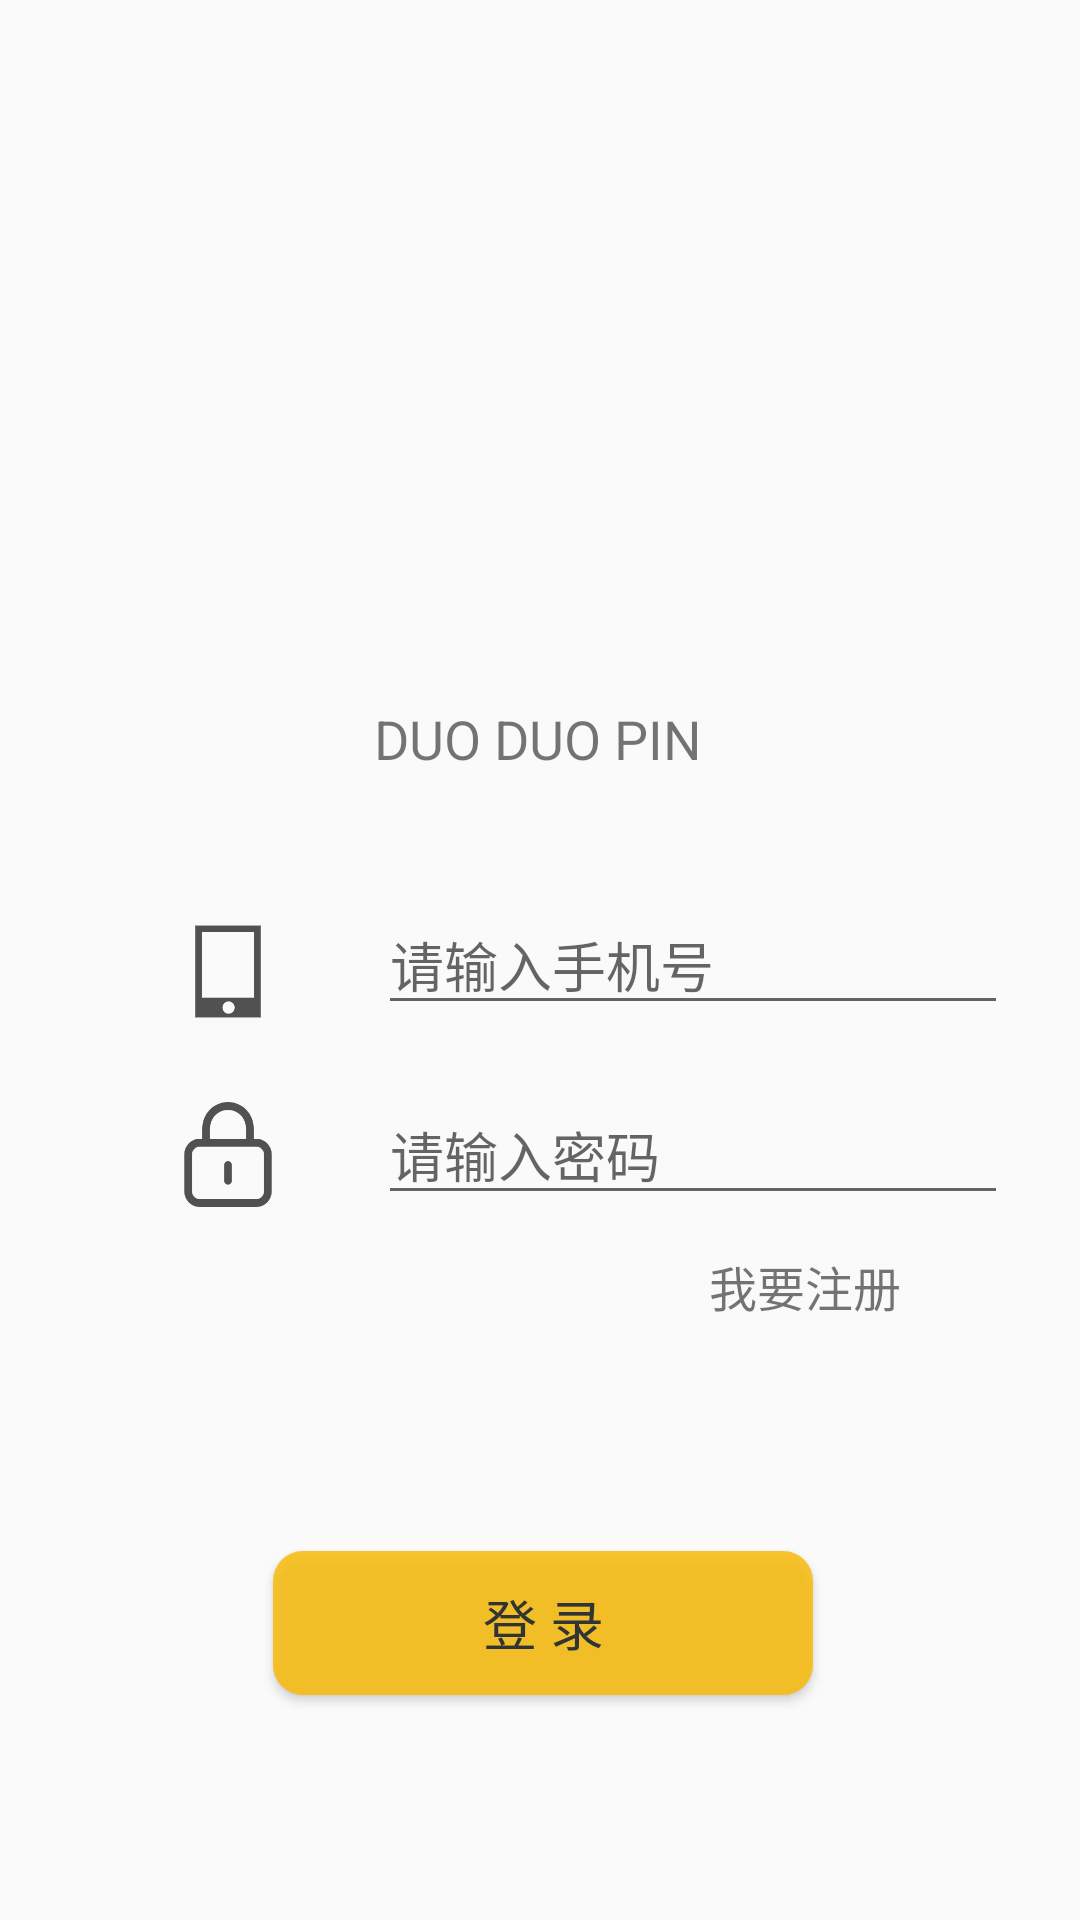

Screen size 1080w x 1920h. Icon name, then its box in pixels as (x1, y1, x2, y2):
login password: (184, 1102, 272, 1207)
login tel: (195, 925, 261, 1018)
